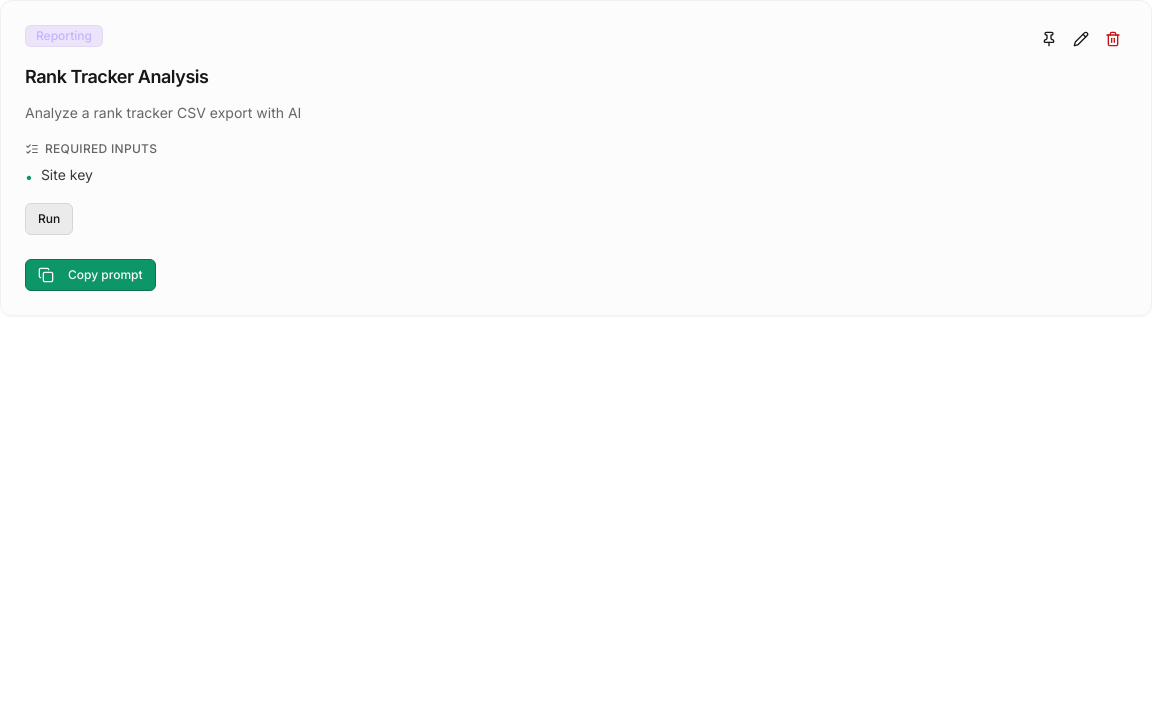
Test case: WorkflowCard - RankRocket MCP run › POSTs JSON with the collected inputValues after the dialog is confirmed
This screenshot has width=1152, height=720.
Step 1. Click the button with test id "button-run-prompt-7" → (49, 218), box [25,202,73,234]
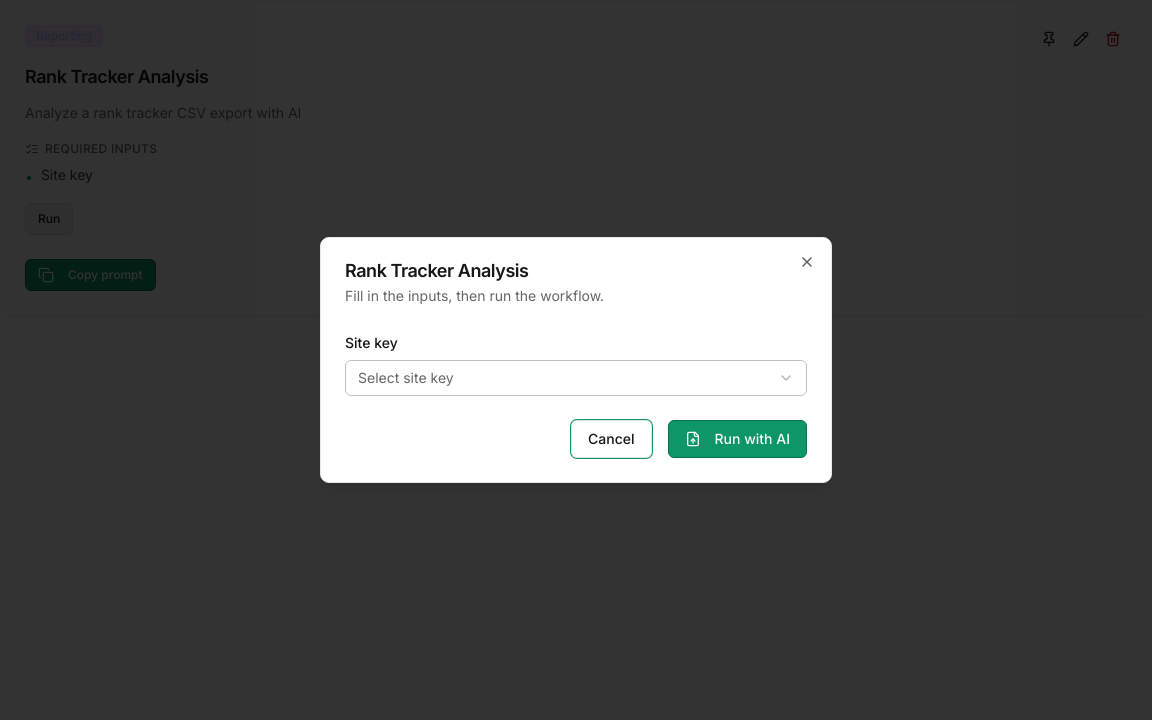
Now the dropdown with test id "launch-input-0" is enabled
Step 2. Click the dropdown with test id "launch-input-0" → (406, 378), box [345,360,807,396]
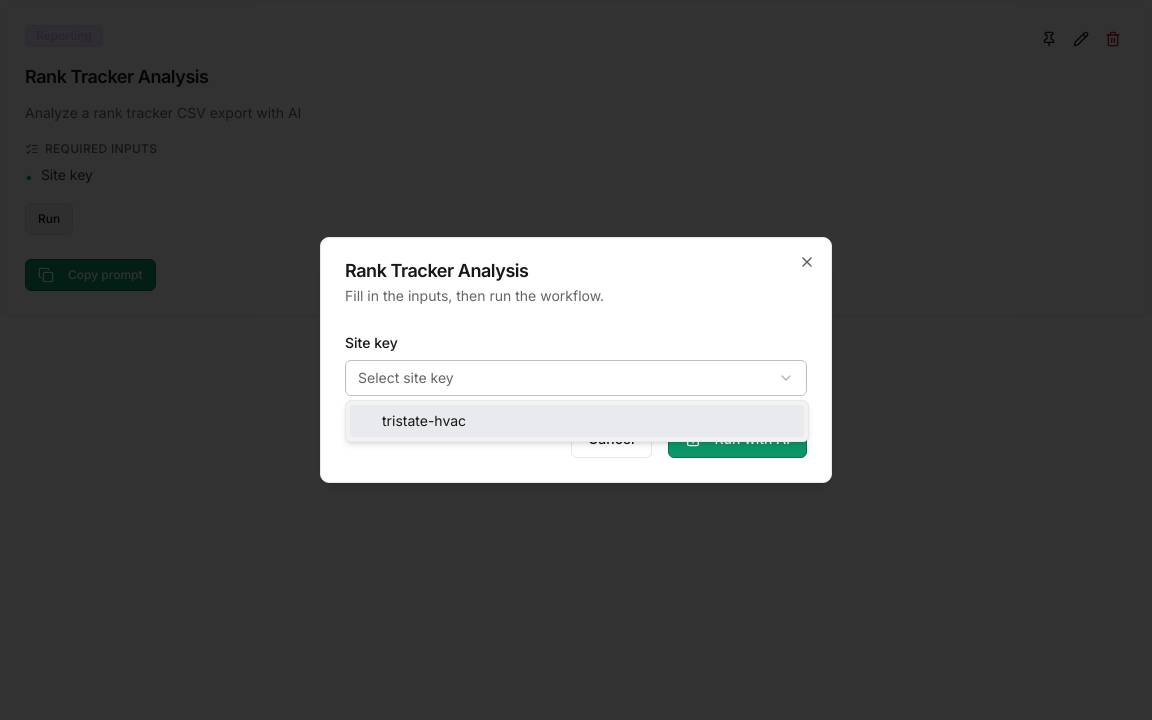
Step 3. Click the option "tristate-hvac" → (424, 420), box [350,405,804,437]
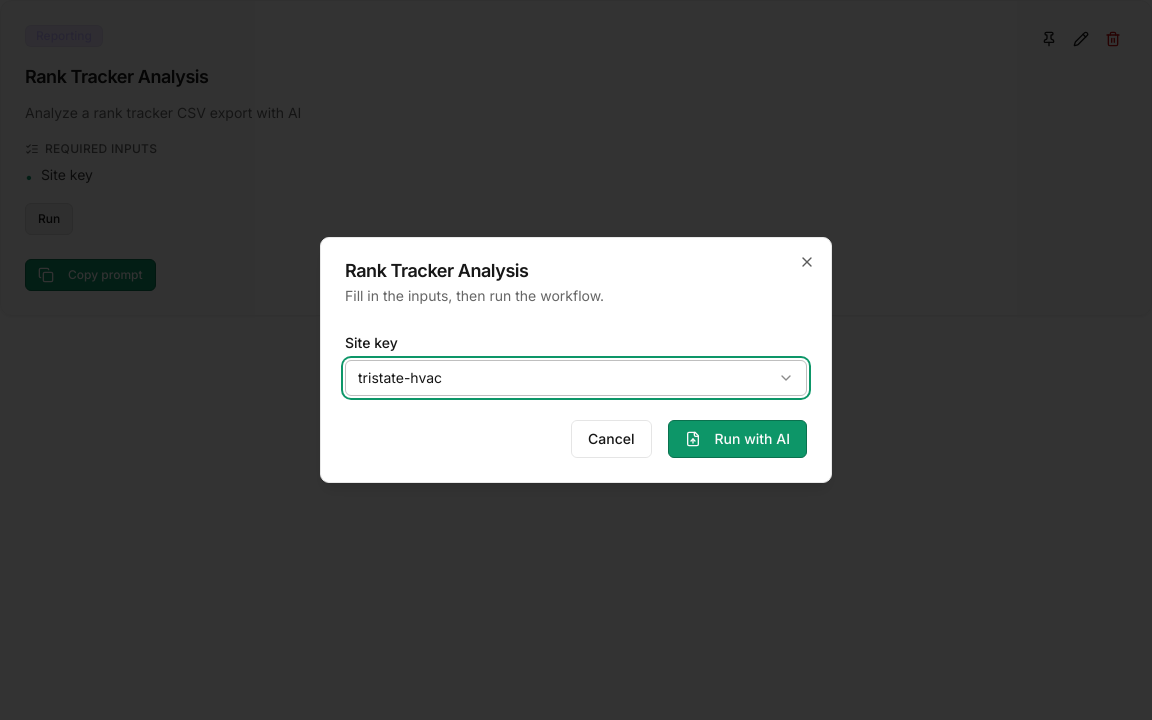
Step 4. Click the button with test id "button-run-confirm" → (737, 439), box [668,420,807,458]
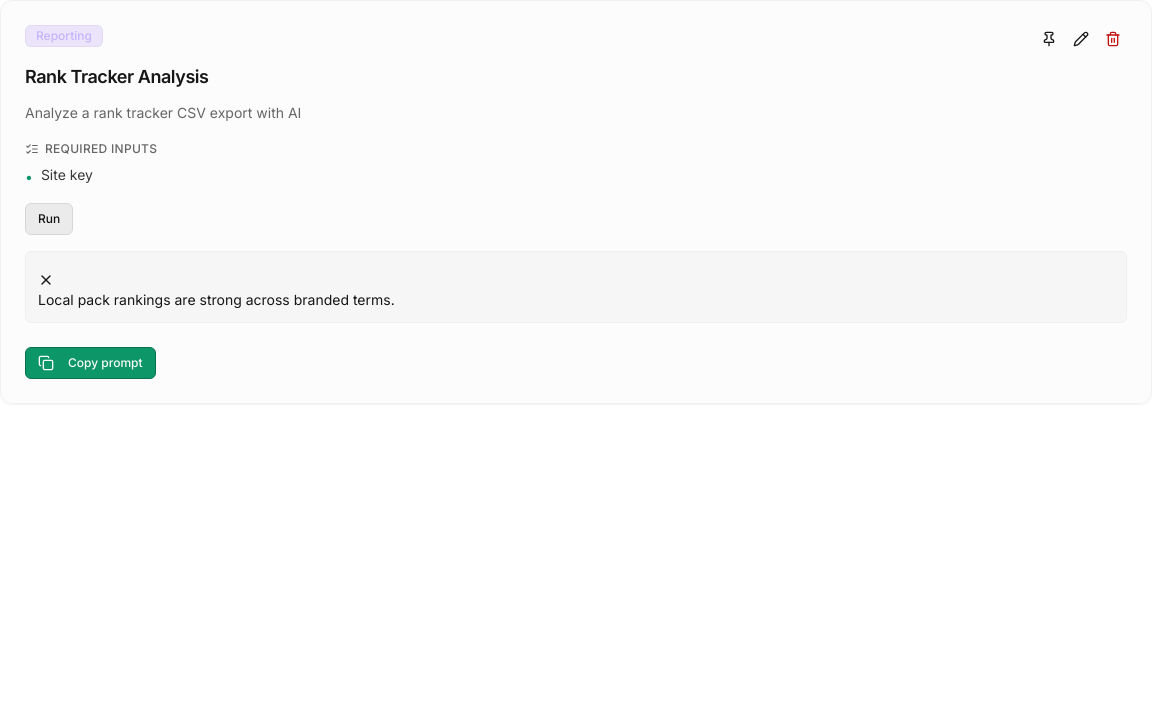
Now the text "Local pack rankings are strong across branded terms." is shown, box [38,290,395,308]
